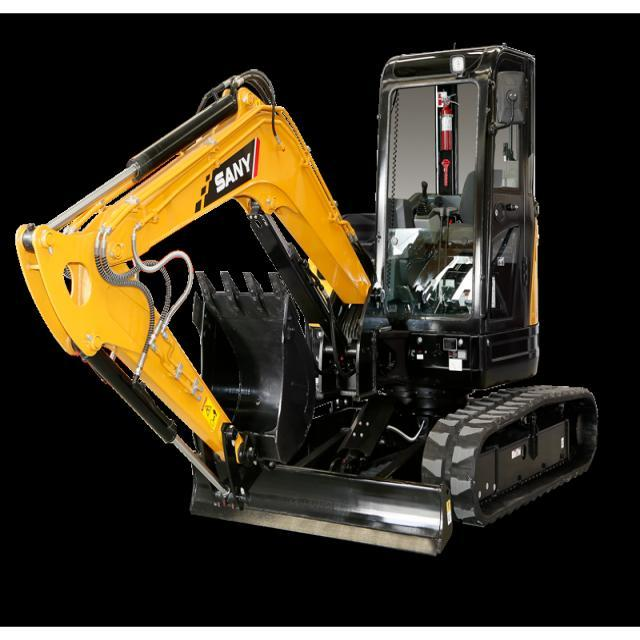C_E: (19, 41, 601, 558)
